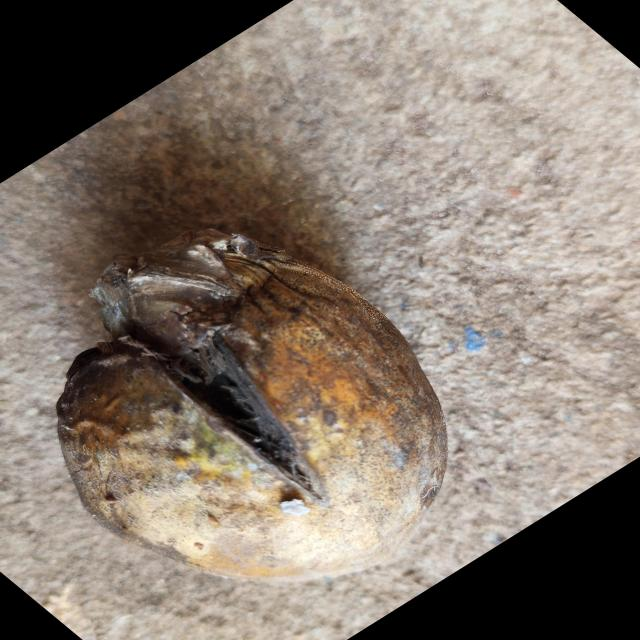damaged: (55, 209, 449, 585)
